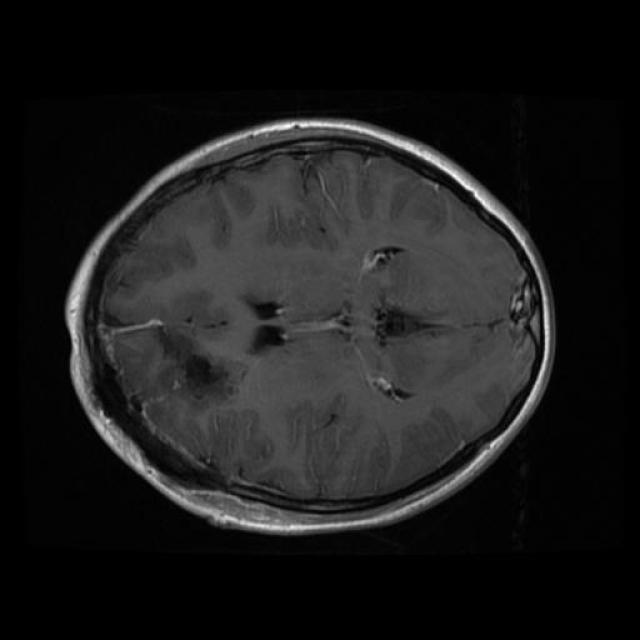Glioma: (156, 327, 228, 399)
